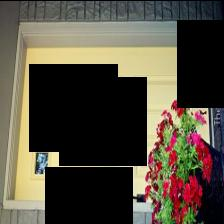yellow: (15, 46, 208, 201)
